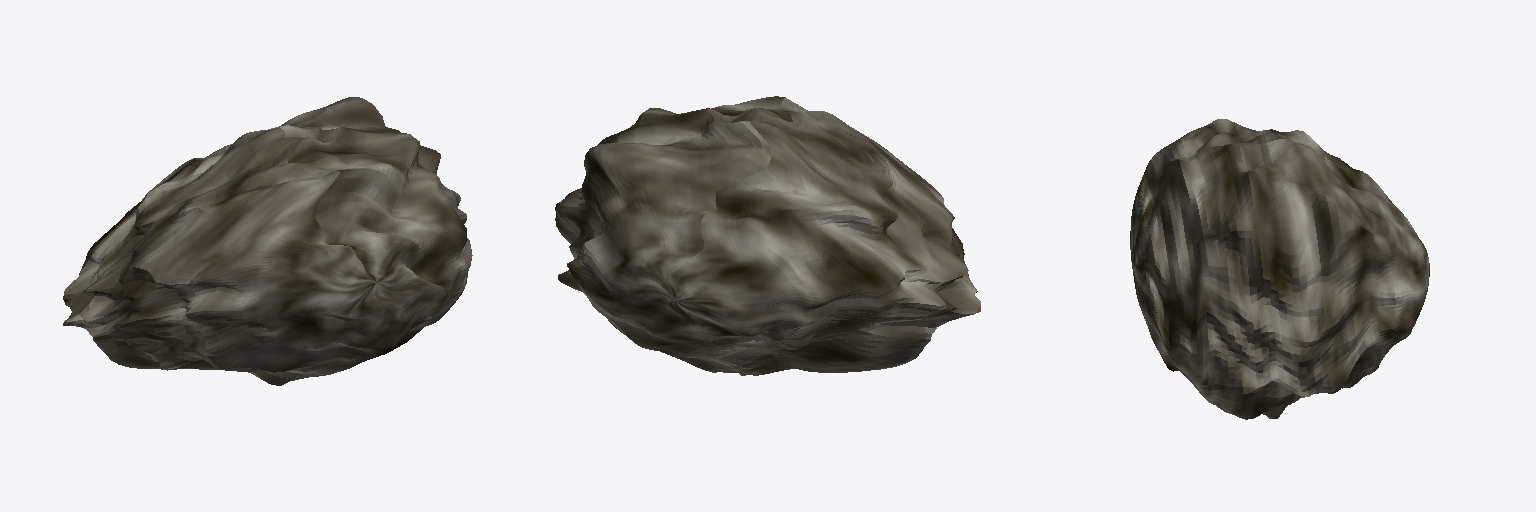
3 views of the same model, side by side, from view 1: azimuth 30°, elevation 25°; view 2: azimuth 150°, elevation 25°; view 3: azimuth 270°, elevation 25° (orthographic).
Visible parts, largest first — view 1: Sphere01; view 2: Sphere01; view 3: Sphere01.
Part boxes in pixels (x1,y1,x2,y2): Sphere01: (63, 97, 472, 385); Sphere01: (555, 96, 980, 375); Sphere01: (1130, 119, 1429, 419).
Size of the model in its own units: 38.96 by 23.07 by 24.9.
1 materials, 1 textured.